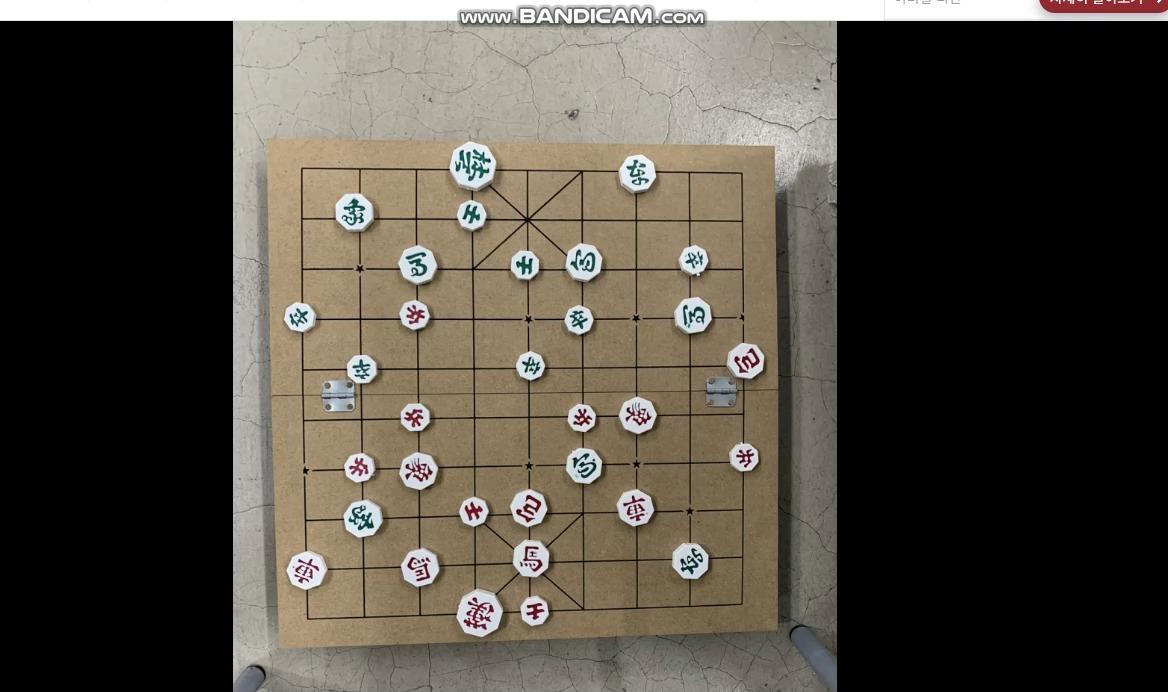cha_green: (617, 156, 656, 192), (671, 545, 710, 580)
cha_red: (287, 553, 328, 588), (617, 491, 655, 525)
jol_green: (284, 304, 318, 332), (346, 356, 379, 384), (515, 351, 545, 381), (678, 246, 709, 274), (563, 307, 595, 334)
jol_red: (567, 404, 598, 435), (397, 302, 431, 329), (343, 454, 377, 481), (399, 402, 432, 429), (727, 445, 760, 472)
ma_green: (672, 297, 713, 332), (398, 248, 437, 283)
ma_red: (400, 549, 440, 584), (511, 542, 550, 577)
po_green: (566, 246, 604, 282), (566, 450, 605, 483)
po_red: (509, 492, 549, 526), (728, 344, 768, 378)
sa_green: (456, 203, 487, 231), (510, 253, 541, 281)
sa_red: (519, 597, 550, 625), (458, 498, 489, 525)
sang_green: (341, 501, 383, 537), (334, 195, 376, 230)
sang_red: (398, 453, 439, 489), (621, 399, 658, 433)
wang_green: (450, 144, 496, 189)
wang_red: (456, 592, 504, 634)
